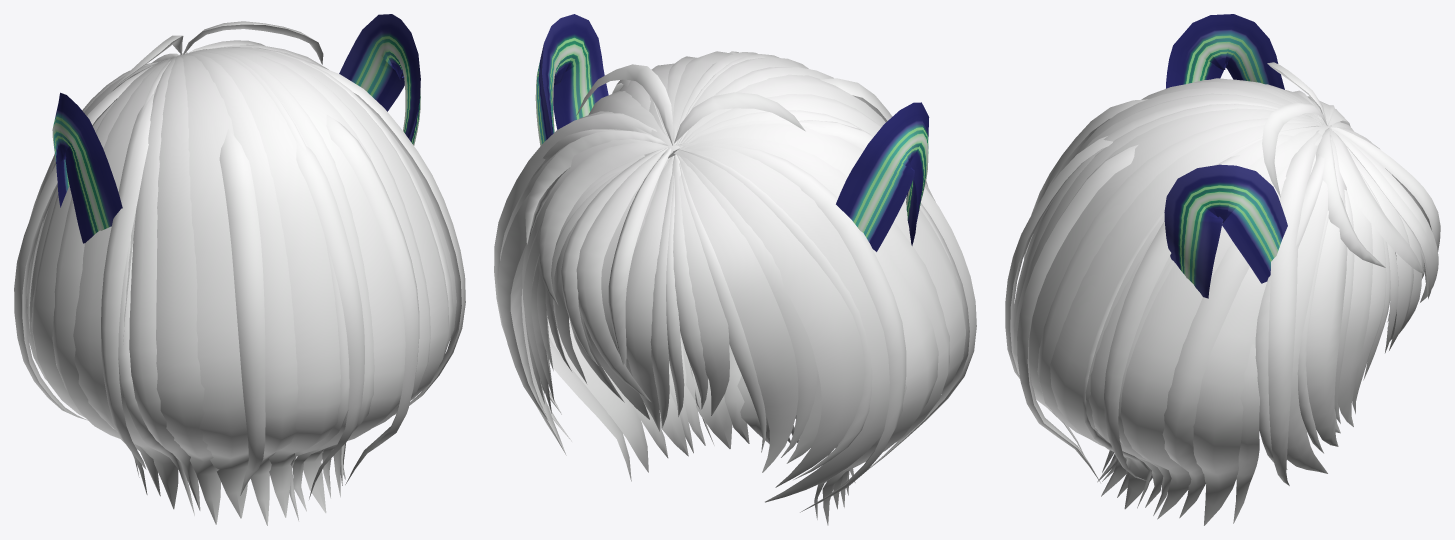
Rendered from hair7.glb.
3 renders of one model, left to right at view 1: azimuth 30°, elevation 25°; view 2: azimuth 150°, elevation 25°; view 3: azimuth 270°, elevation 25°, orthographic. The views are drawn at different scales.
Parts seen in each view (by area): view 1: Hair; view 2: Hair; view 3: Hair.
Boxes of the visible parts, box(x1,y1,x2,y2) form: Hair: box(14, 14, 465, 525); Hair: box(494, 14, 976, 525); Hair: box(1005, 14, 1440, 525).
Size of the model in its own units: 0.2745 by 0.2833 by 0.281.
3 materials, 3 textured.
